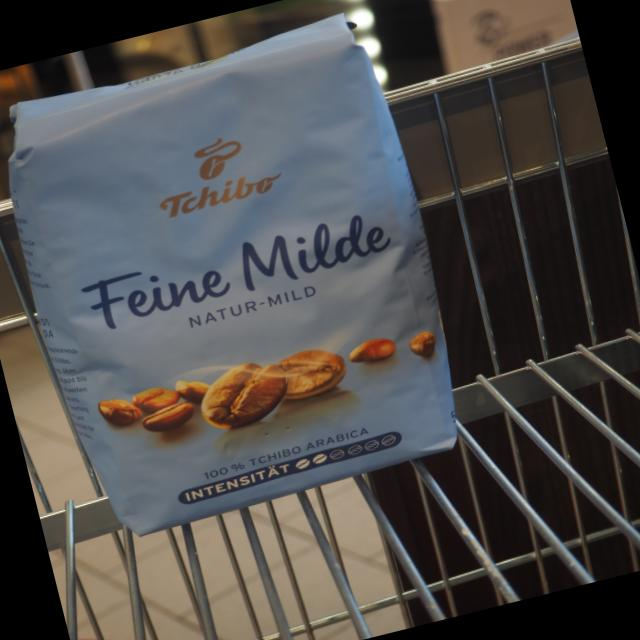FM Bohne: (0, 0, 484, 552)
